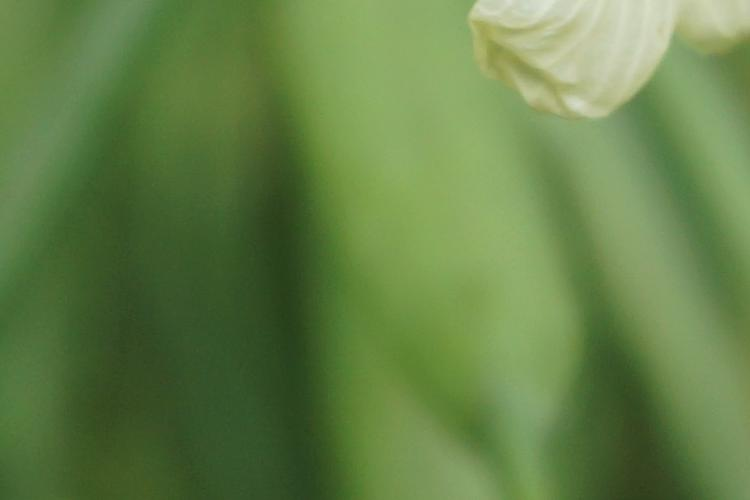white: (467, 8, 742, 113)
